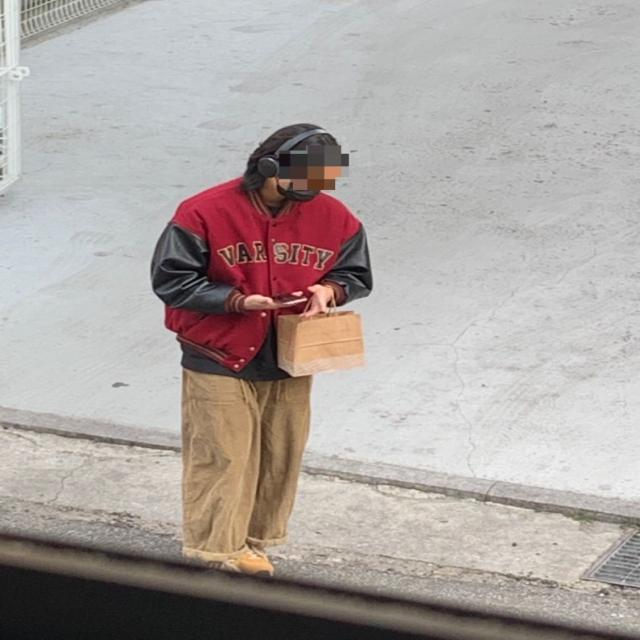cottonpants: (178, 361, 318, 559)
jacket: (152, 177, 375, 384)
